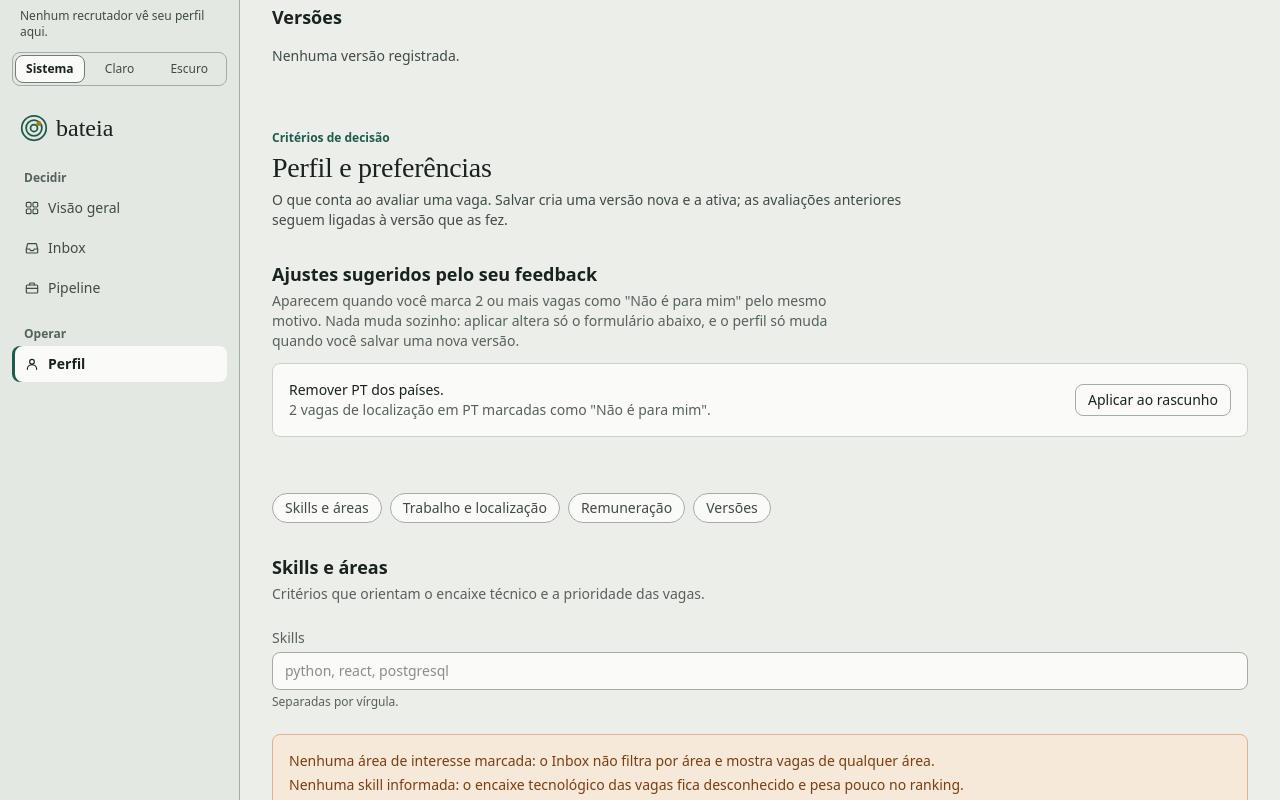
ProfilePage — ajustes sugeridos pelo feedback › aplicar compara sem diferenciar maiúsculas e minúsculas
(page scrolled)
Click the button "Aplicar ao rascunho".
click(1153, 400)  # box [1075,384,1231,416]
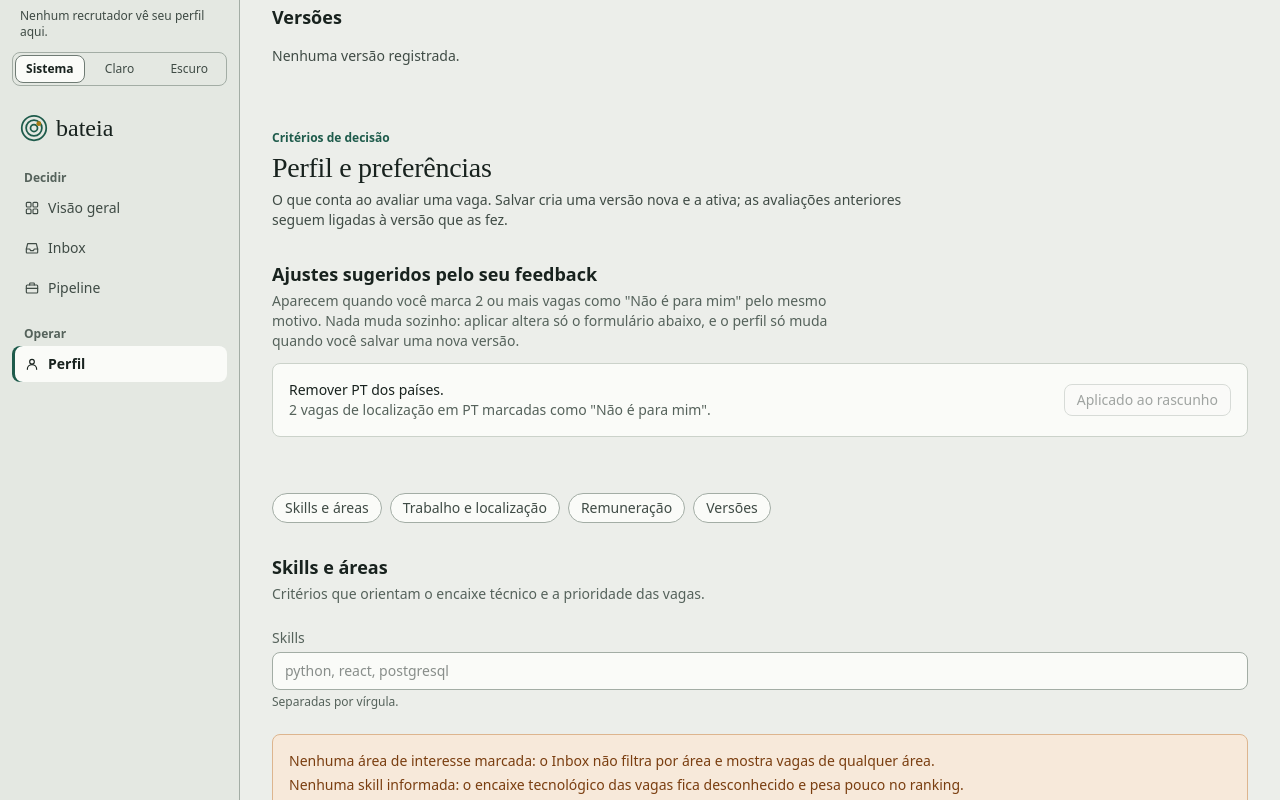
Check: the button "Aplicado ao rascunho" is disabled, box [1064,384,1231,416]
